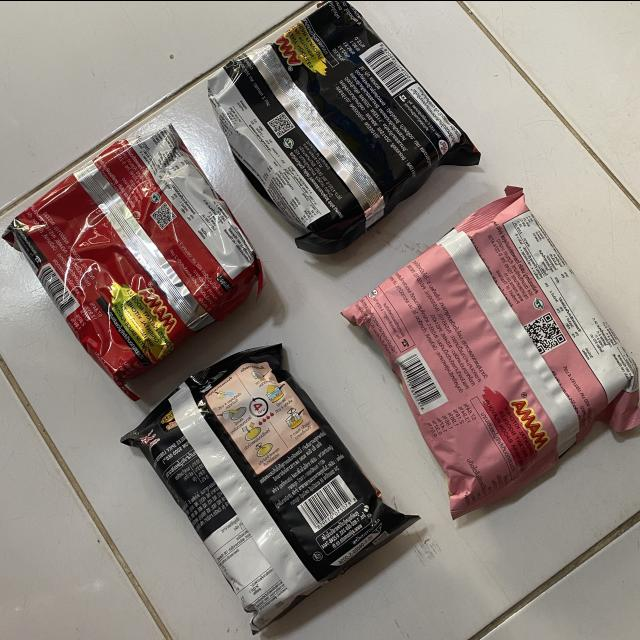plastik: (343, 187, 640, 517), (122, 344, 419, 632), (4, 122, 261, 396), (208, 0, 481, 252)
